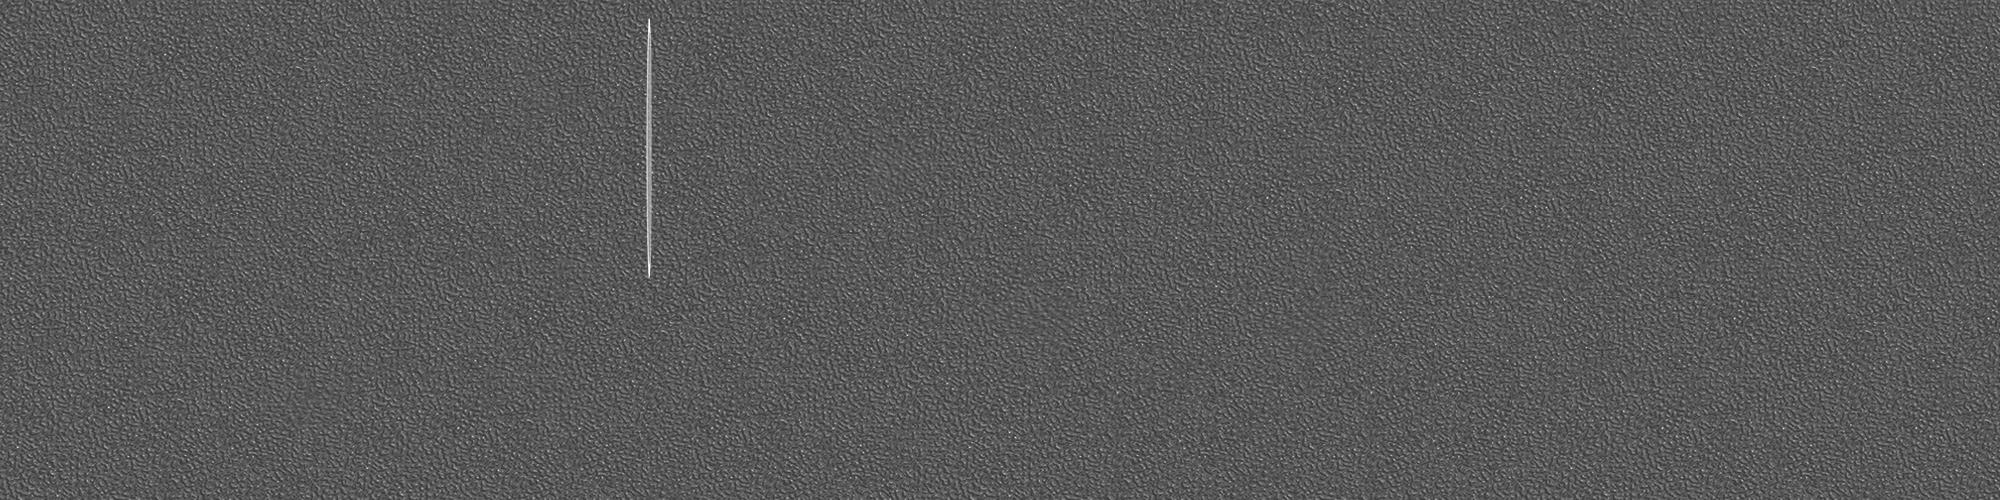Streaks: (636, 13, 663, 279)
